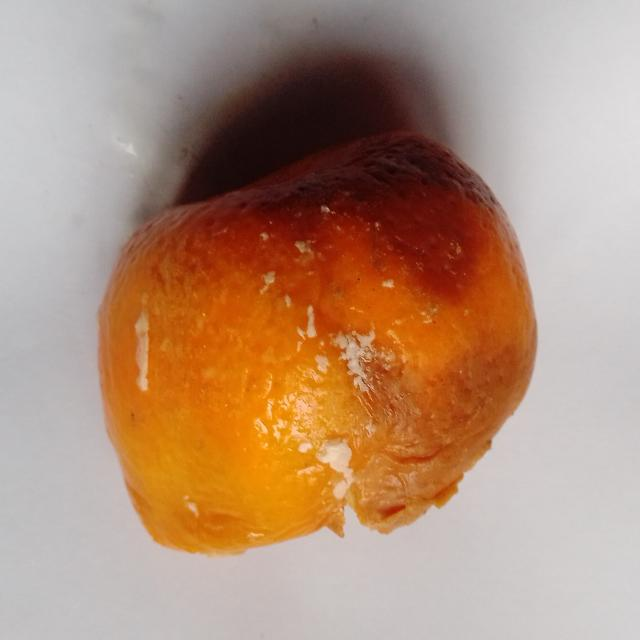orange: (100, 133, 536, 553)
